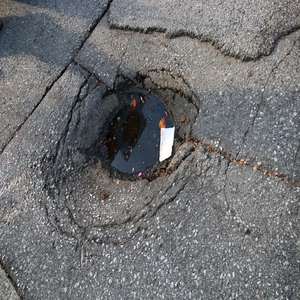pothole: (84, 73, 202, 193)
